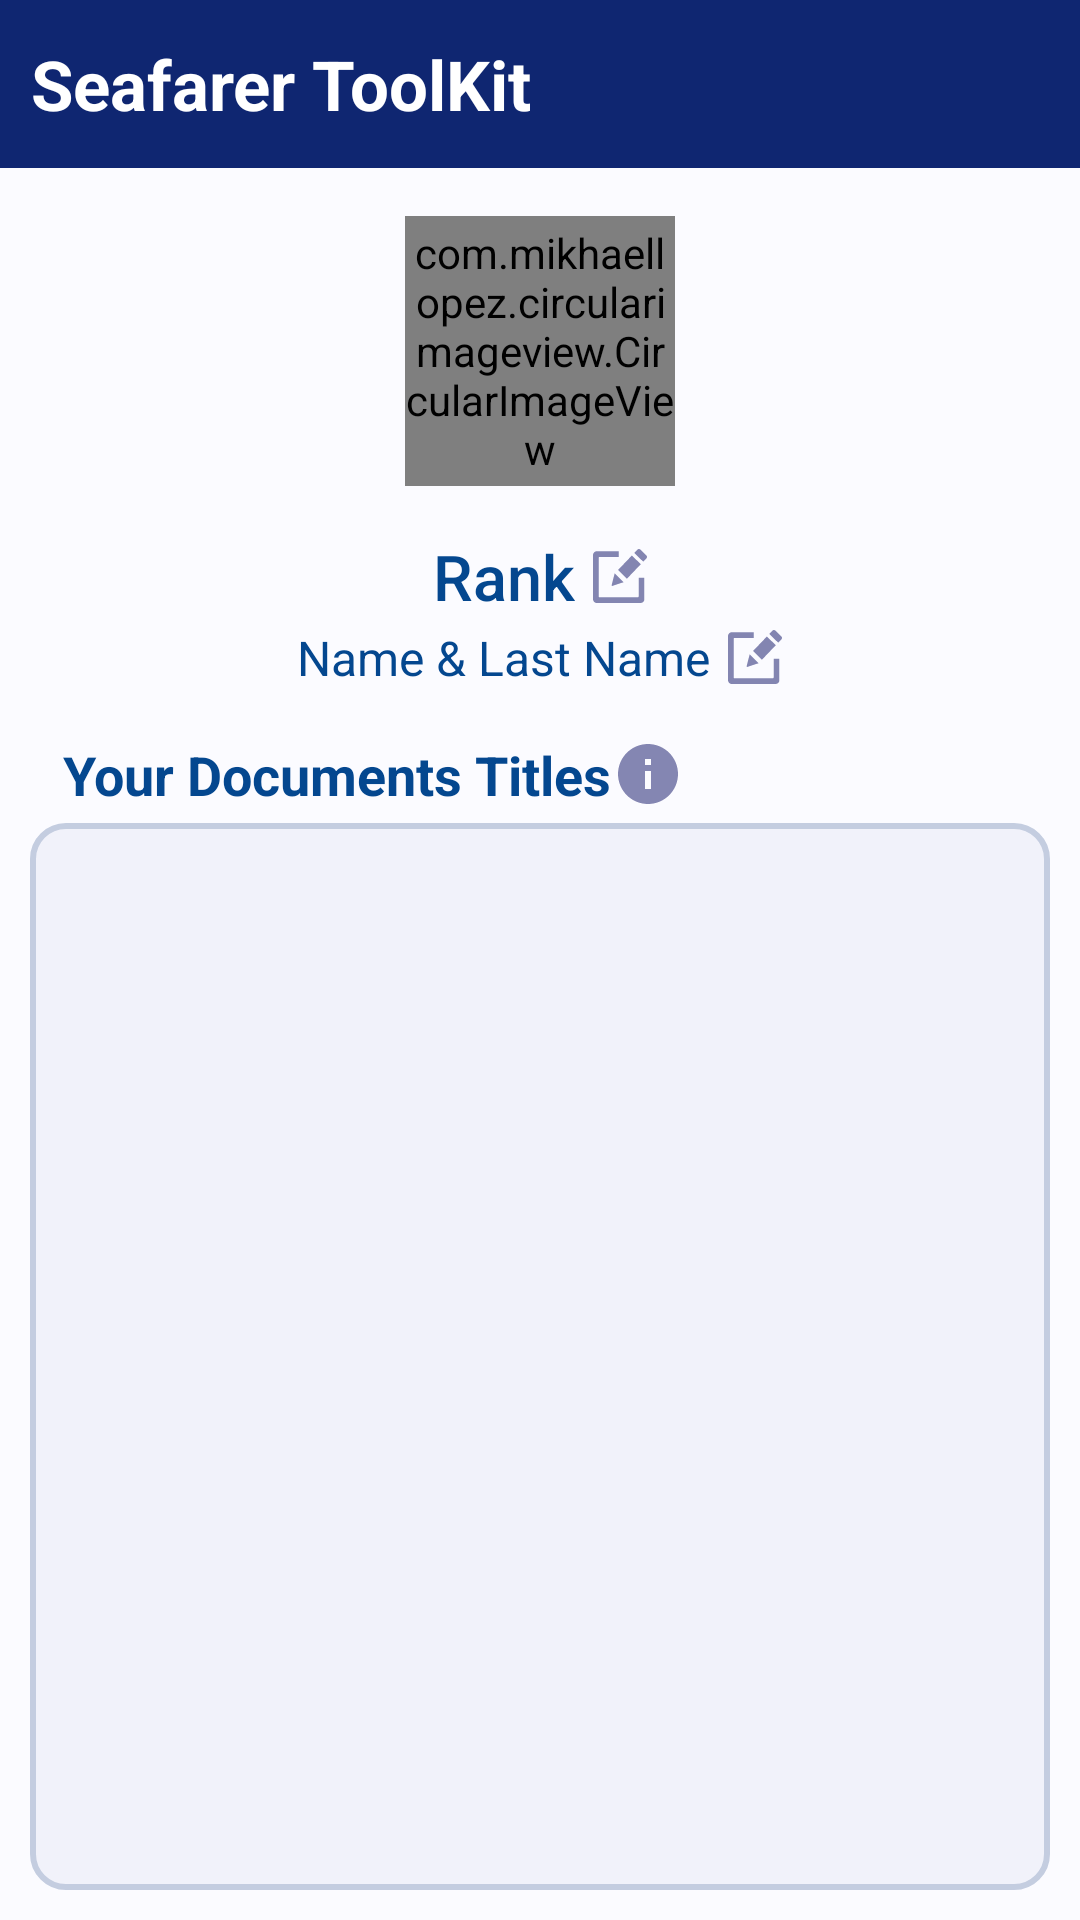

Screen size 1080x1920. Icon name, then its box in pixels as (x1, y1, x2, y2):
edit box: (593, 549, 647, 603), (728, 630, 782, 684)
info: (618, 744, 678, 804)
